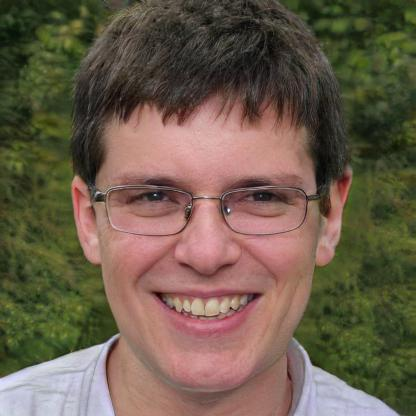glasses: (93, 178, 320, 238)
